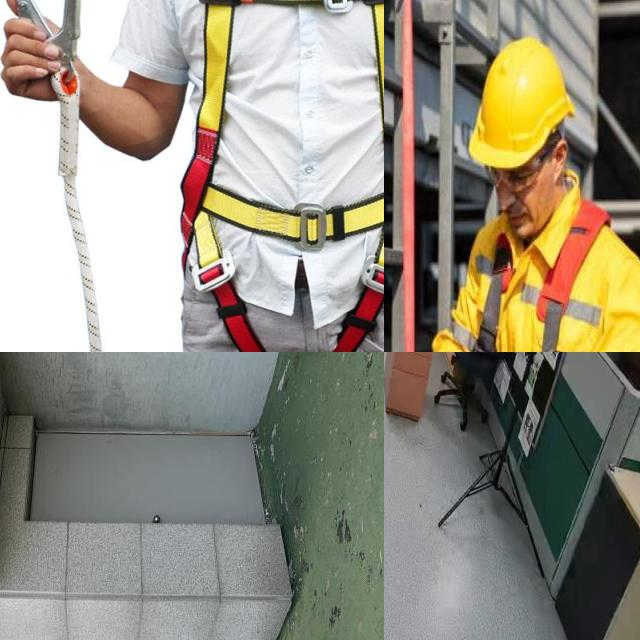Harness: (179, 0, 384, 352), (537, 199, 611, 352)
